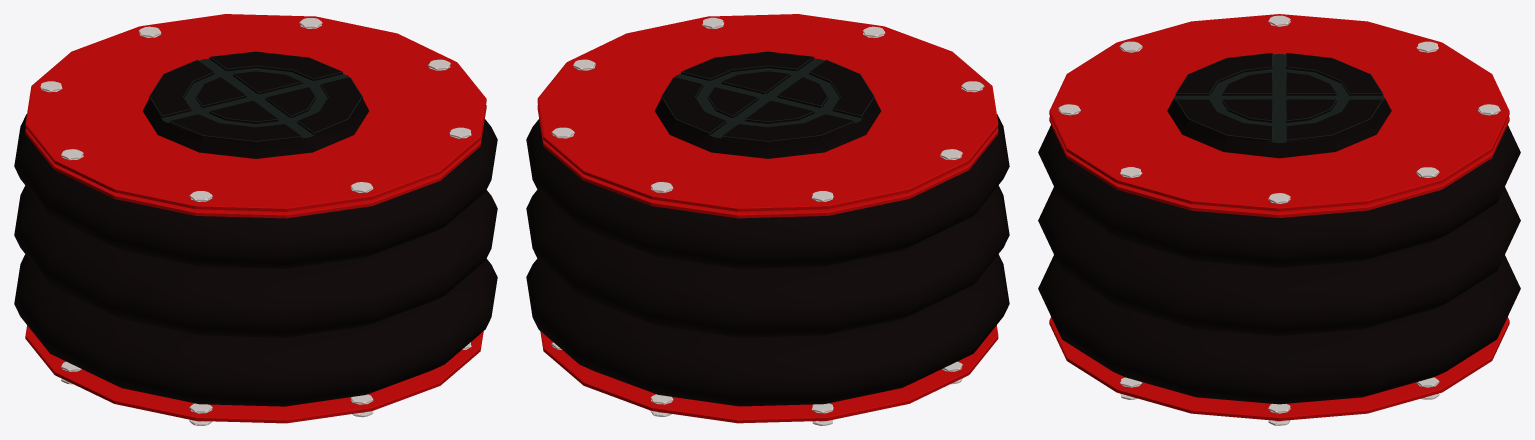
Rendered from hip.dae.
3 renders of one model, left to right at view 1: azimuth 30°, elevation 25°; view 2: azimuth 150°, elevation 25°; view 3: azimuth 270°, elevation 25°, orthographic.
Visible parts, largest first — view 1: polySurface449, polySurface545, polySurface457, polySurface557; view 2: polySurface449, polySurface545, polySurface457, polySurface557; view 3: polySurface449, polySurface545, polySurface457, polySurface557.
Part boxes in pixels (x1,y1,x2,y2): polySurface449: (14, 114, 497, 406); polySurface545: (25, 14, 486, 423); polySurface457: (143, 51, 368, 158); polySurface557: (40, 18, 471, 425); polySurface449: (526, 114, 1009, 406); polySurface545: (537, 14, 998, 423); polySurface457: (655, 51, 880, 158); polySurface557: (551, 17, 984, 425); polySurface449: (1038, 125, 1520, 404); polySurface545: (1049, 14, 1509, 420); polySurface457: (1167, 53, 1391, 158); polySurface557: (1058, 15, 1500, 425).
Size of the model in its own units: 2.08 by 2.08 by 1.12.
